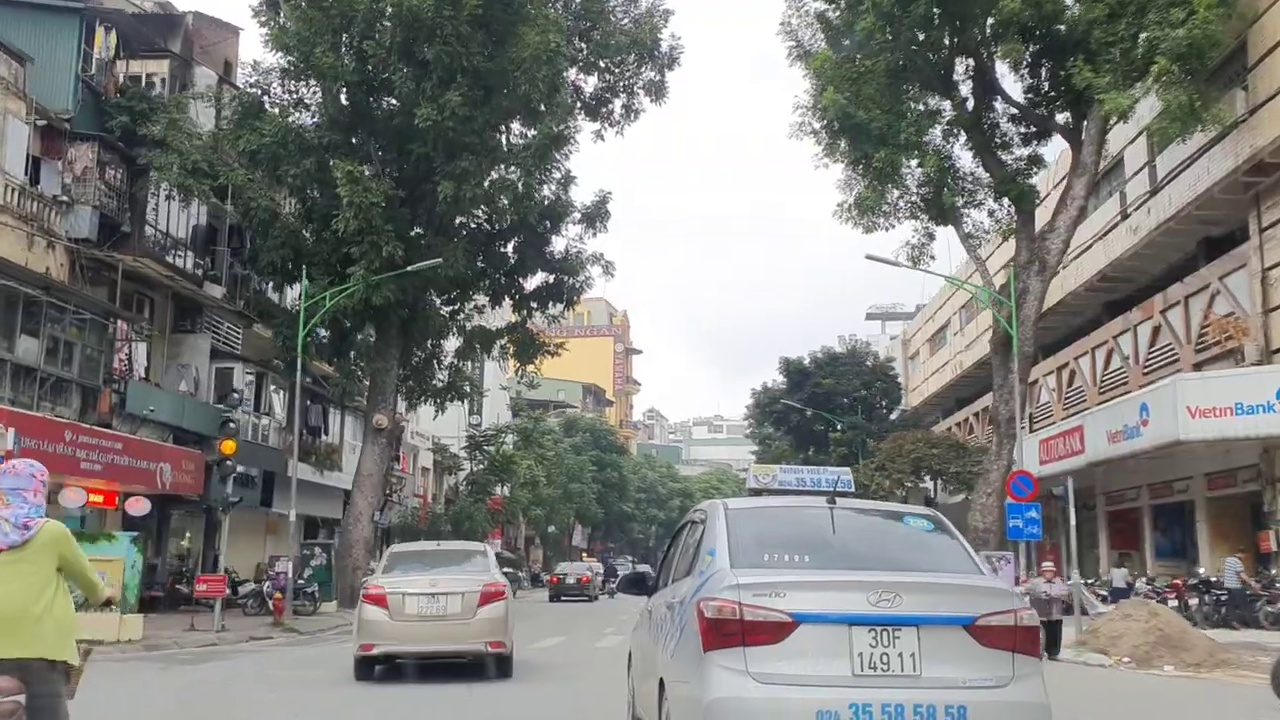vehicle-plate: (851, 616, 923, 675), (418, 592, 446, 615)
